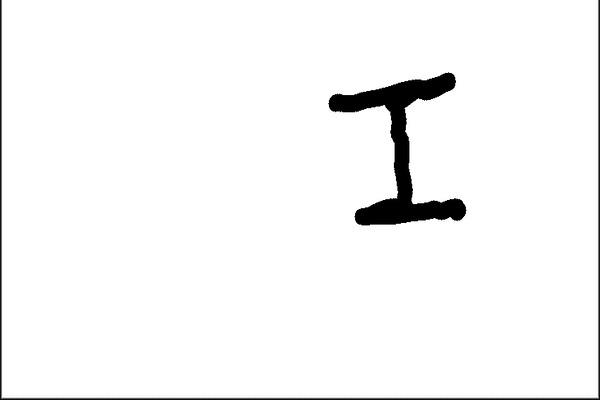i: (320, 65, 482, 247)
